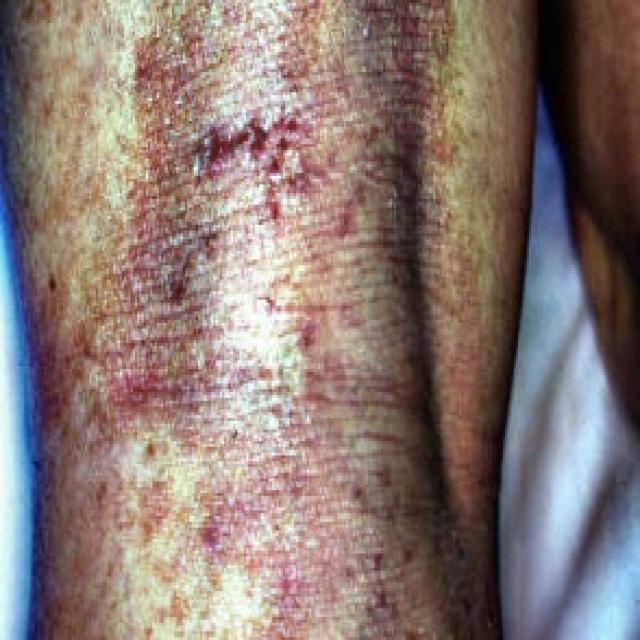Eczema: (0, 2, 533, 636), (1, 3, 534, 635)
